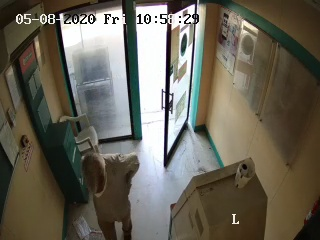open: (120, 2, 196, 172)
